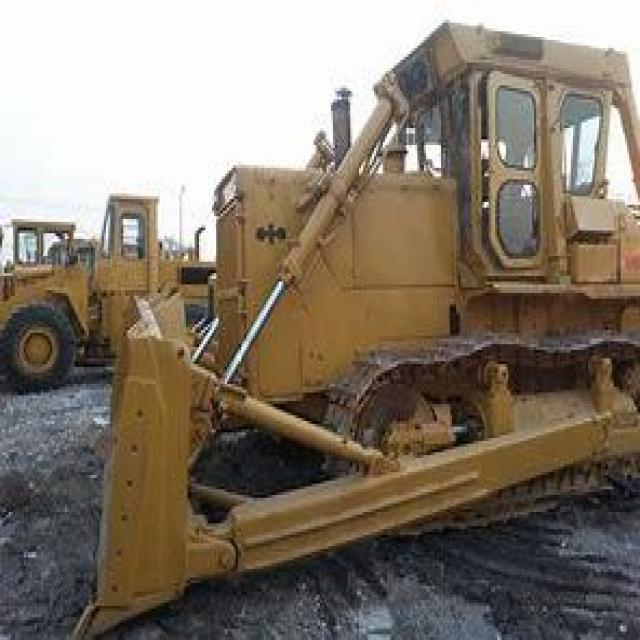Bulldozer: (76, 6, 638, 628)
